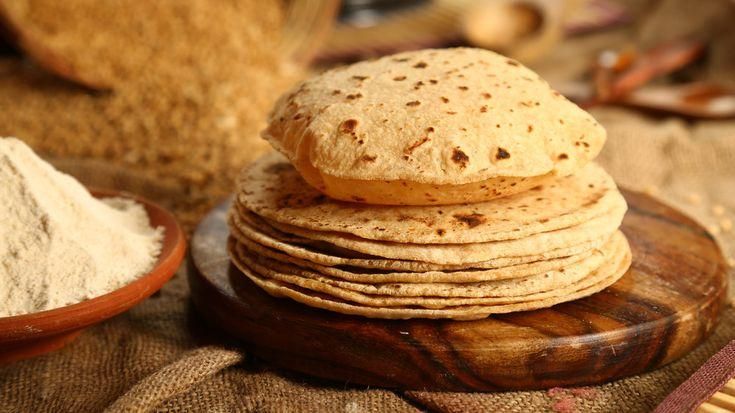roti phulka: (223, 44, 634, 320)
